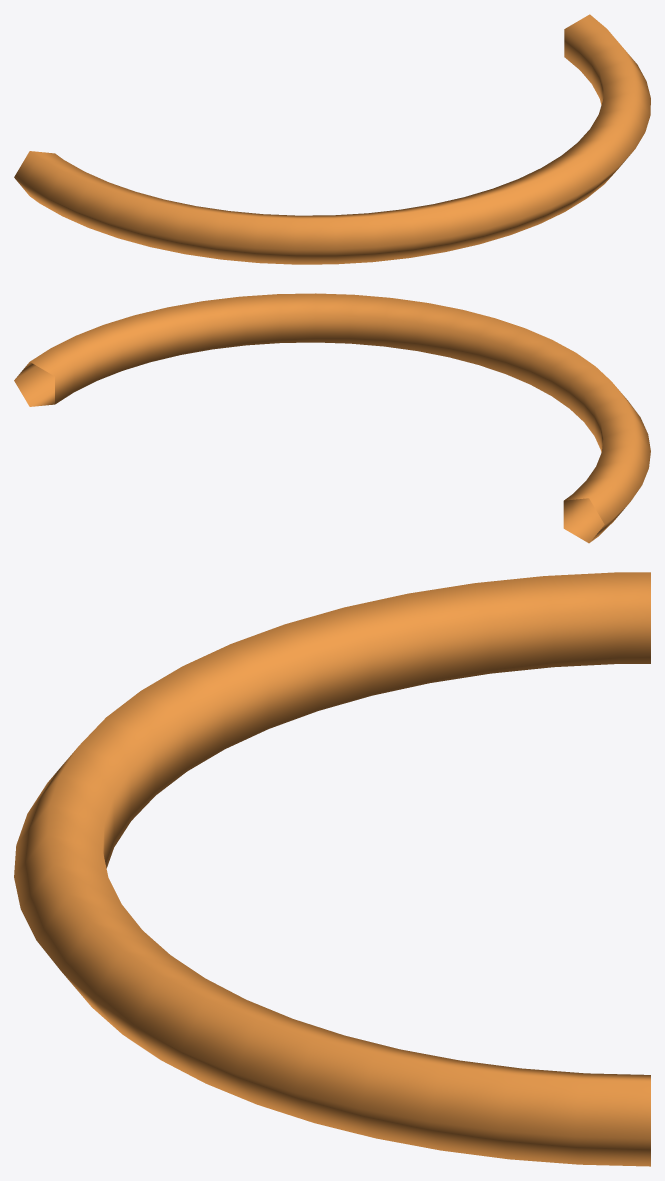
The model's file is Ring_Bottom.fbx.
3 renders of one model, top to bottom at view 1: azimuth 30°, elevation 25°; view 2: azimuth 150°, elevation 25°; view 3: azimuth 270°, elevation 25°, orthographic. The views are drawn at different scales.
Visible parts, largest first — view 1: Ring; view 2: Ring; view 3: Ring.
Part boxes in pixels (x1,y1,x2,y2): Ring: (14, 14, 650, 264); Ring: (14, 293, 650, 543); Ring: (14, 572, 650, 1166).
Bounding box in the file's own units: 3.9 × 0.2853 × 1.95.
